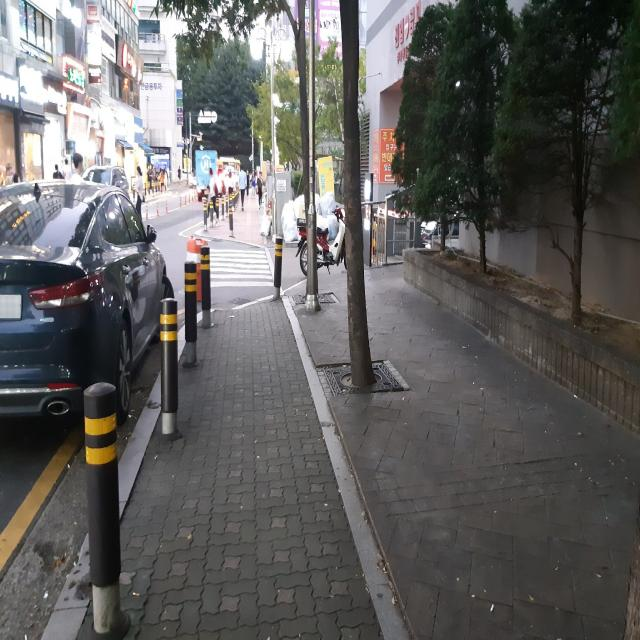횡단보도: (210, 248, 274, 288)
